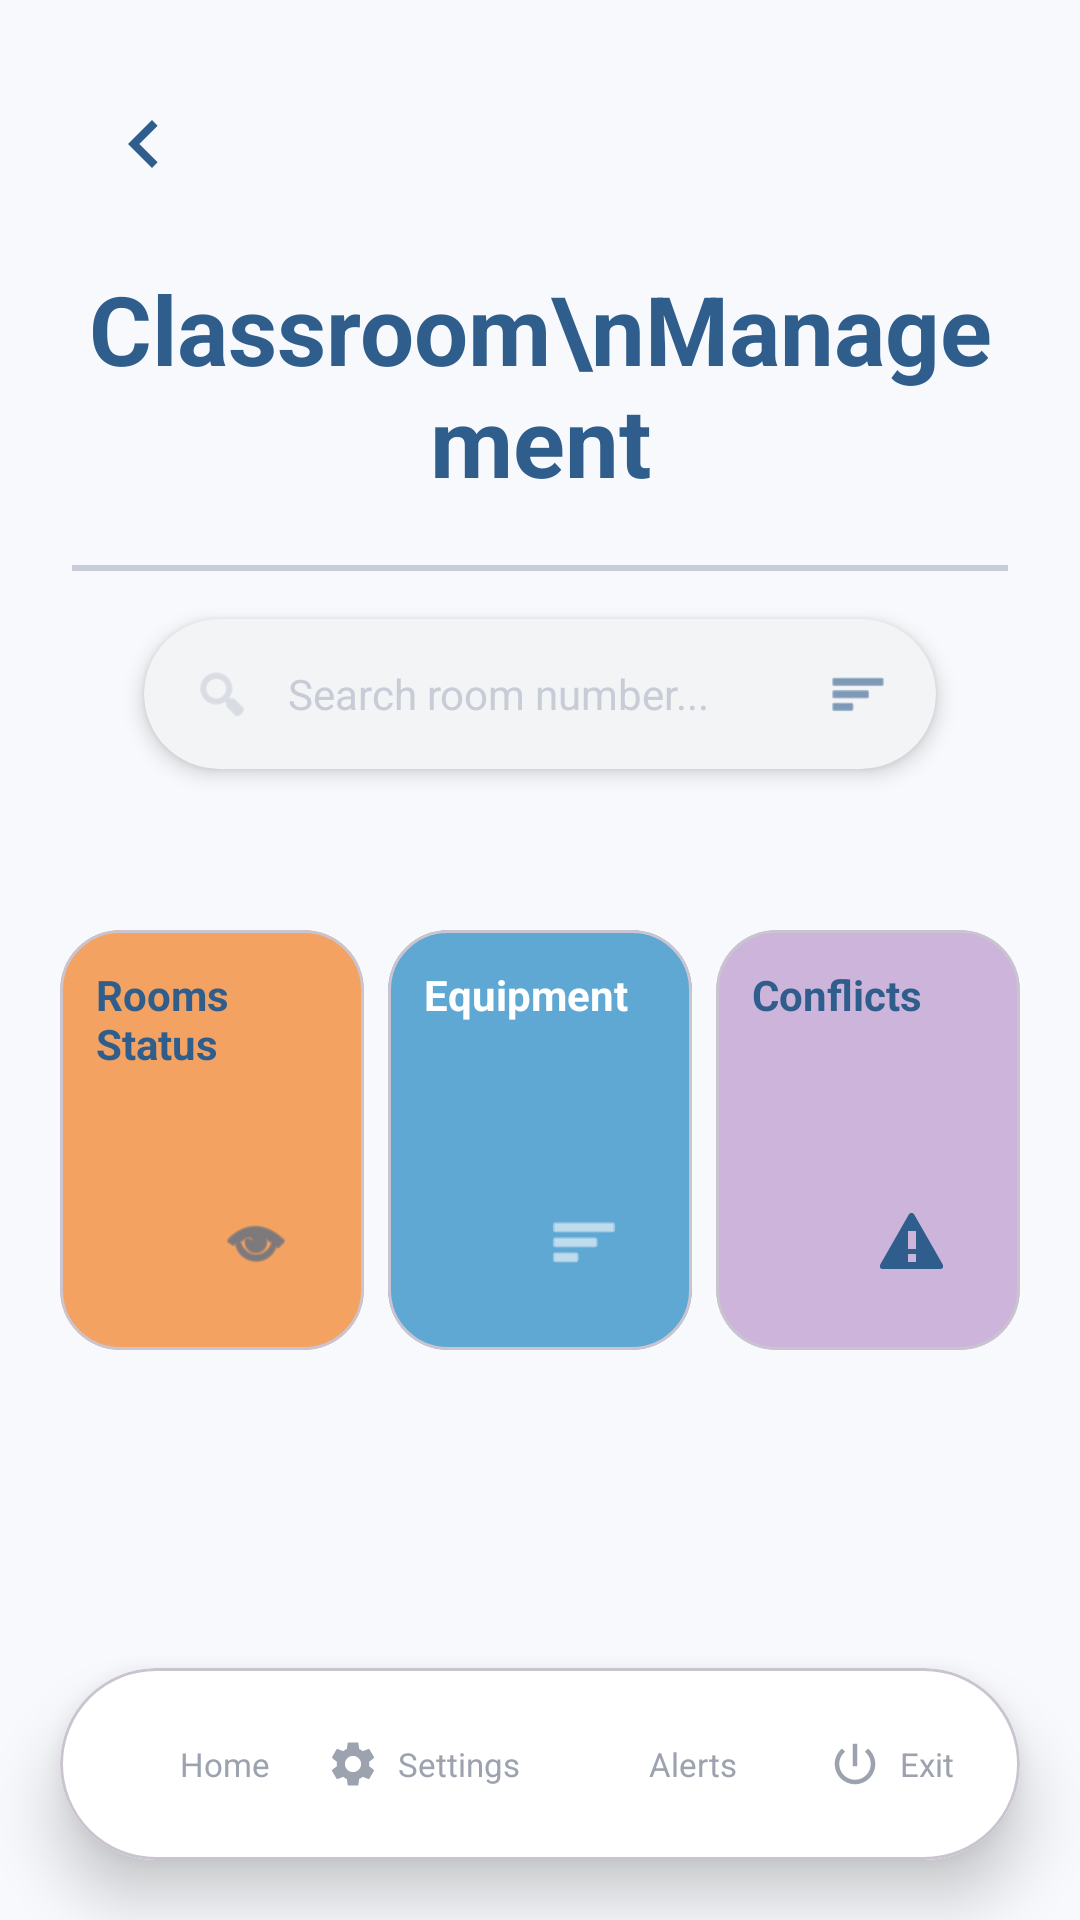

Named icons in this screenshot (1080x1920) and their bounding boxes, (x1, y1, x2, y2):
Go back: (128, 120, 158, 168)
sort by size: (832, 677, 884, 711)
View rooms: (227, 1225, 285, 1262)
